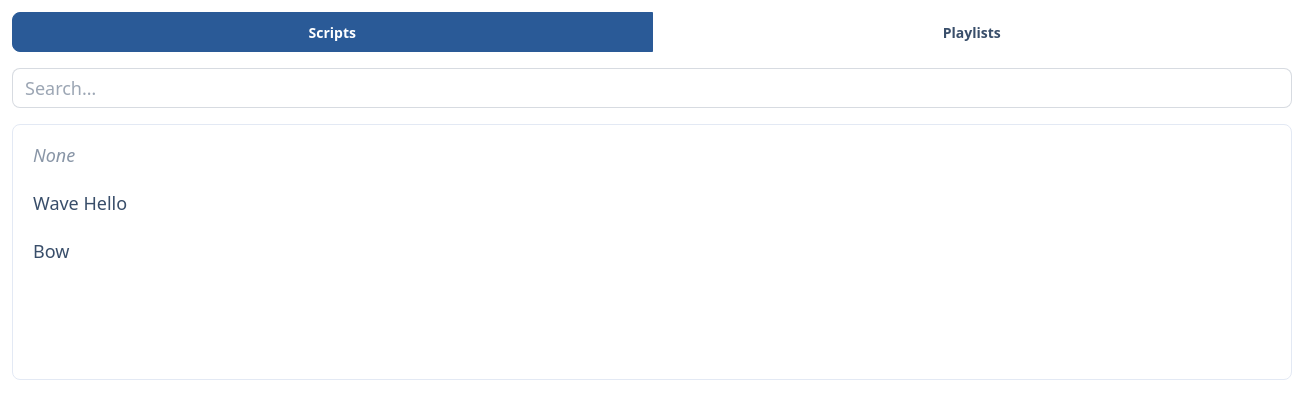
Test: AstrosRemoteButtonEditor › filters results case-insensitively as user types in search
Type "WAV" into the field with test id "editor-search" at [652, 88], box [12,68,1292,108]
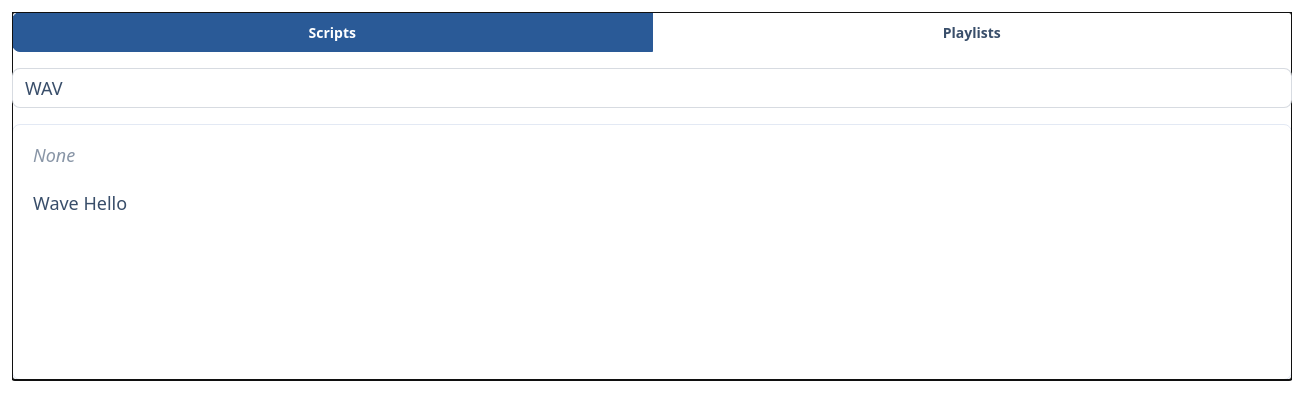
Expected: the text "Wave Hello" is shown, [21,181,1283,225]
Now the text "Bow" is gone
